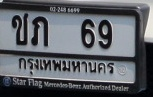txt08: (10, 12, 30, 47)
txt27: (30, 15, 50, 48)
